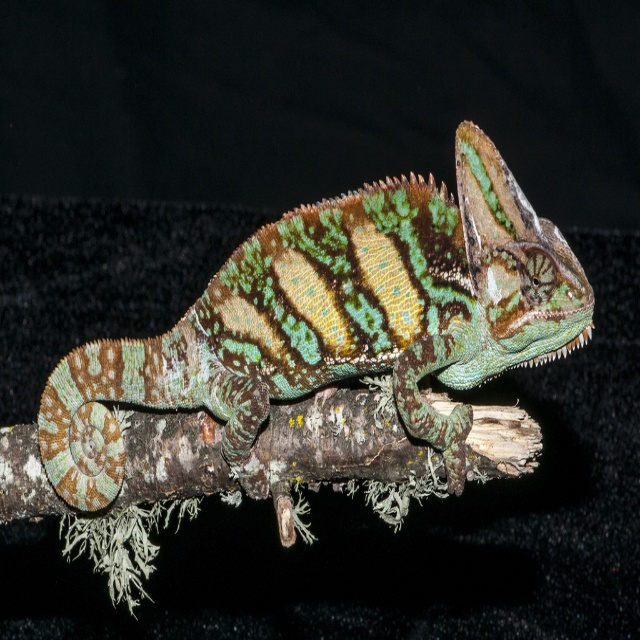Lizard: (38, 121, 592, 513)
